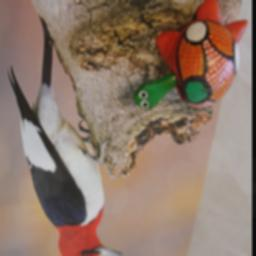Woodpecker: (6, 14, 122, 256)
